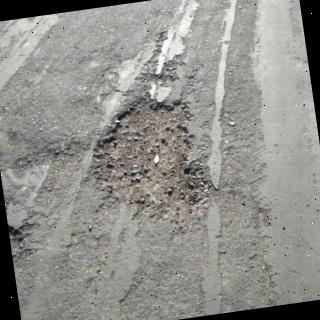pothole: (92, 92, 213, 221)
